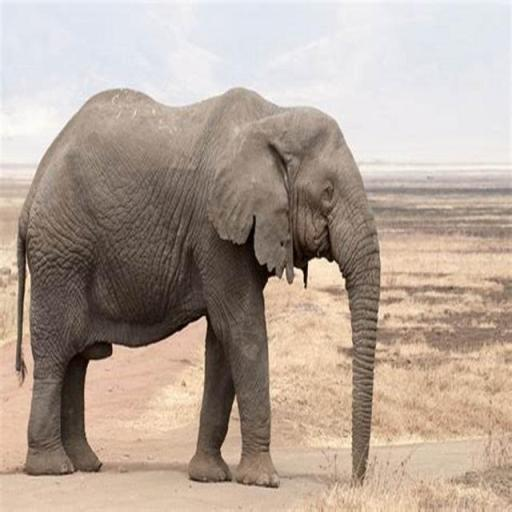Elephant: (14, 84, 382, 490)
